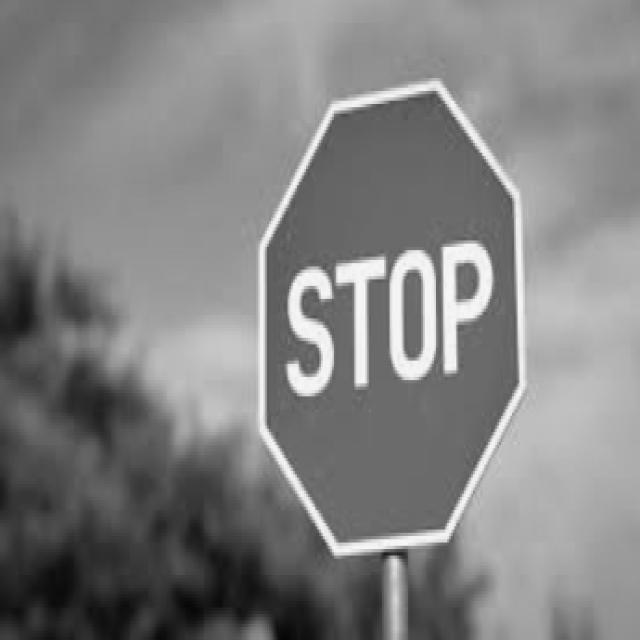Stop-signs: (261, 79, 523, 558)
